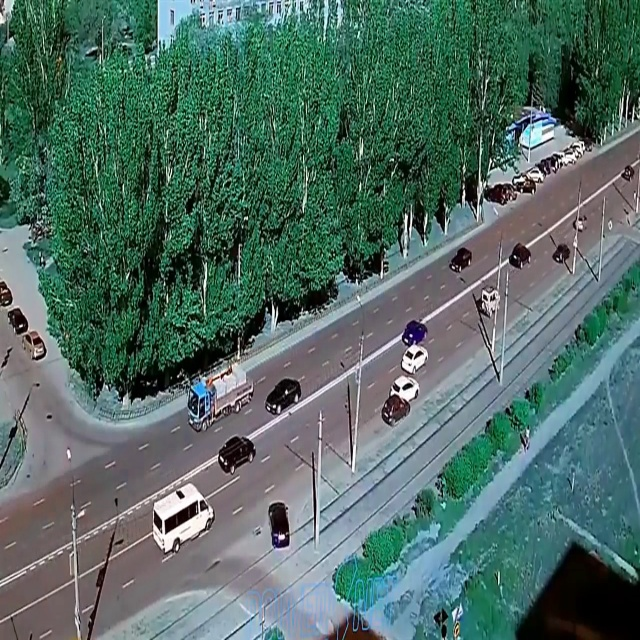acc: (370, 368, 427, 436)
